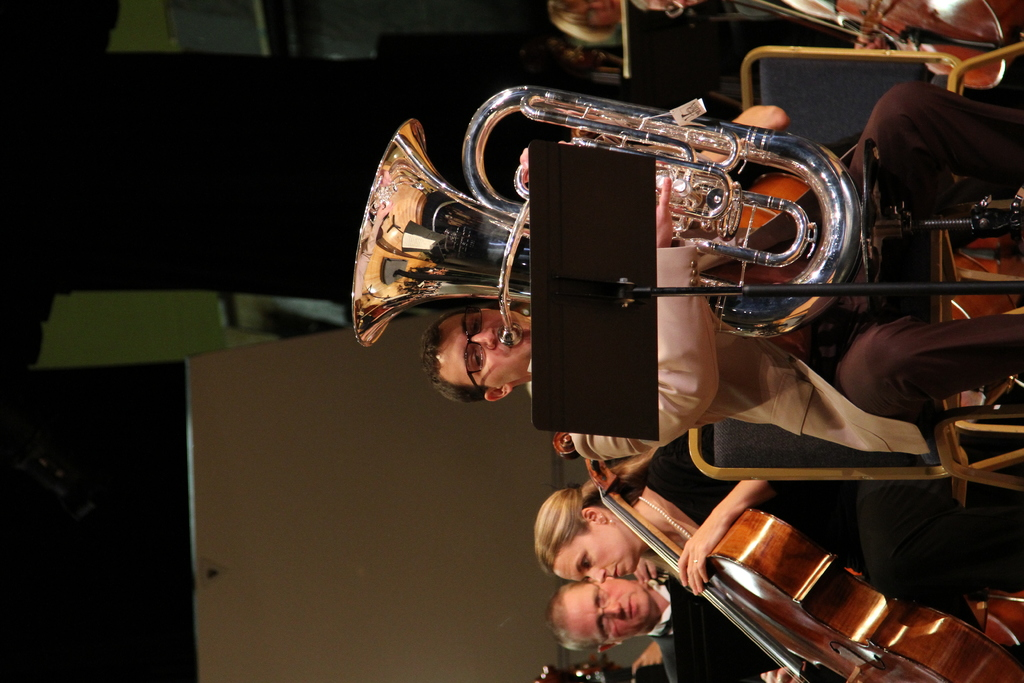Person: (419, 0, 1023, 683)
